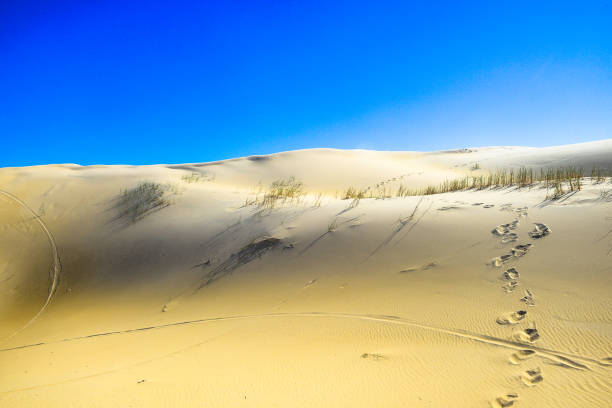human_footprint: (494, 388, 526, 408), (496, 310, 526, 324), (521, 368, 543, 386), (510, 348, 542, 360), (528, 223, 550, 238), (518, 330, 542, 342), (503, 268, 518, 283), (496, 250, 509, 266)
